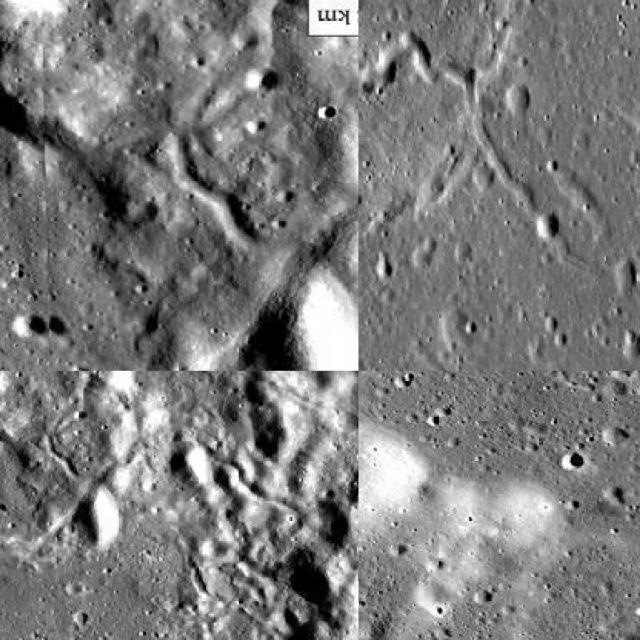crater: (360, 0, 640, 369), (117, 151, 358, 369), (16, 415, 307, 563), (160, 0, 289, 252), (526, 371, 640, 558), (40, 370, 112, 484)
